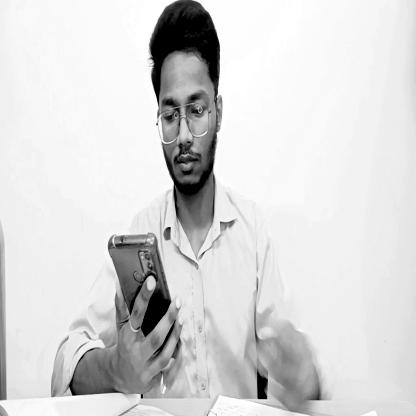Normal: (148, 4, 226, 202)
